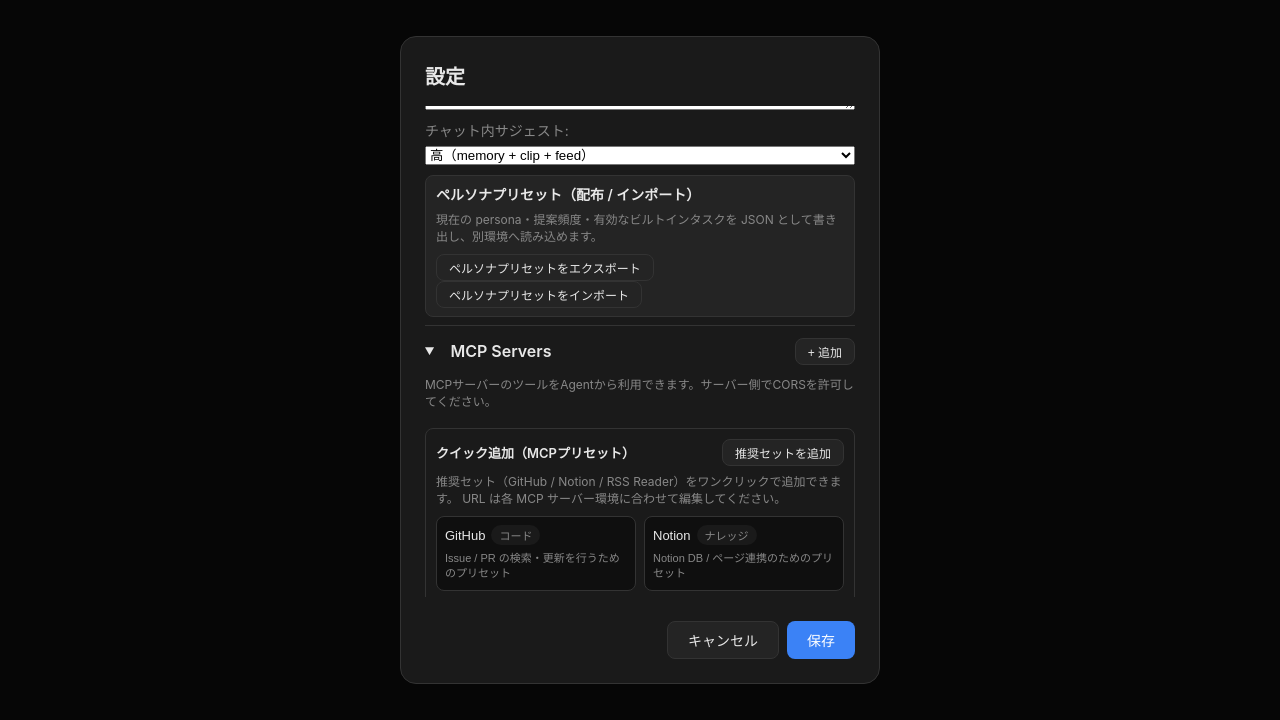
it: SettingsModal › MCP サーバーの追加ボタンでサーバーフォームが表示される
The image size is (1280, 720).
(page scrolled)
// MCP Servers セクション内の「+ 追加」ボタンをクリック
Click the button "+ 追加": coordinates (825, 351) [795,338,855,365]
(page scrolled)
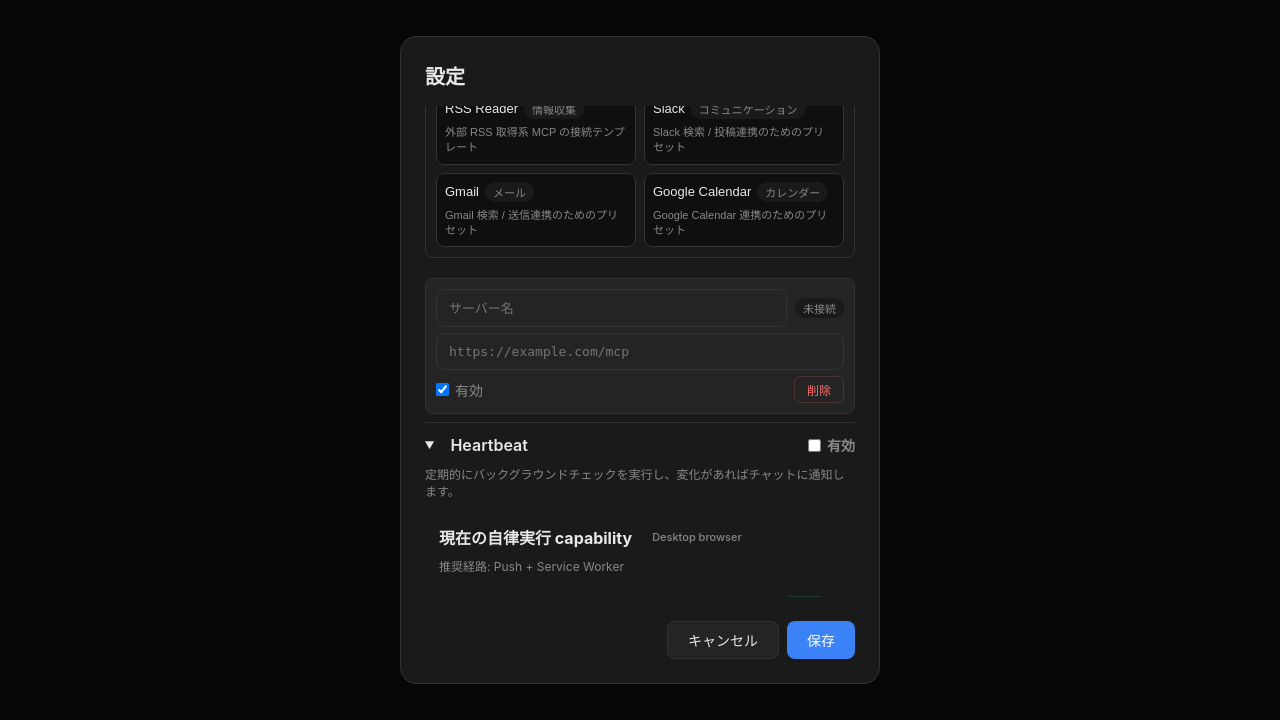
expect the field with placeholder "サーバー名" is shown: met, box [436,289,787,327]
expect the field with placeholder "https://example.com/mcp" is shown: met, box [436,333,844,370]
